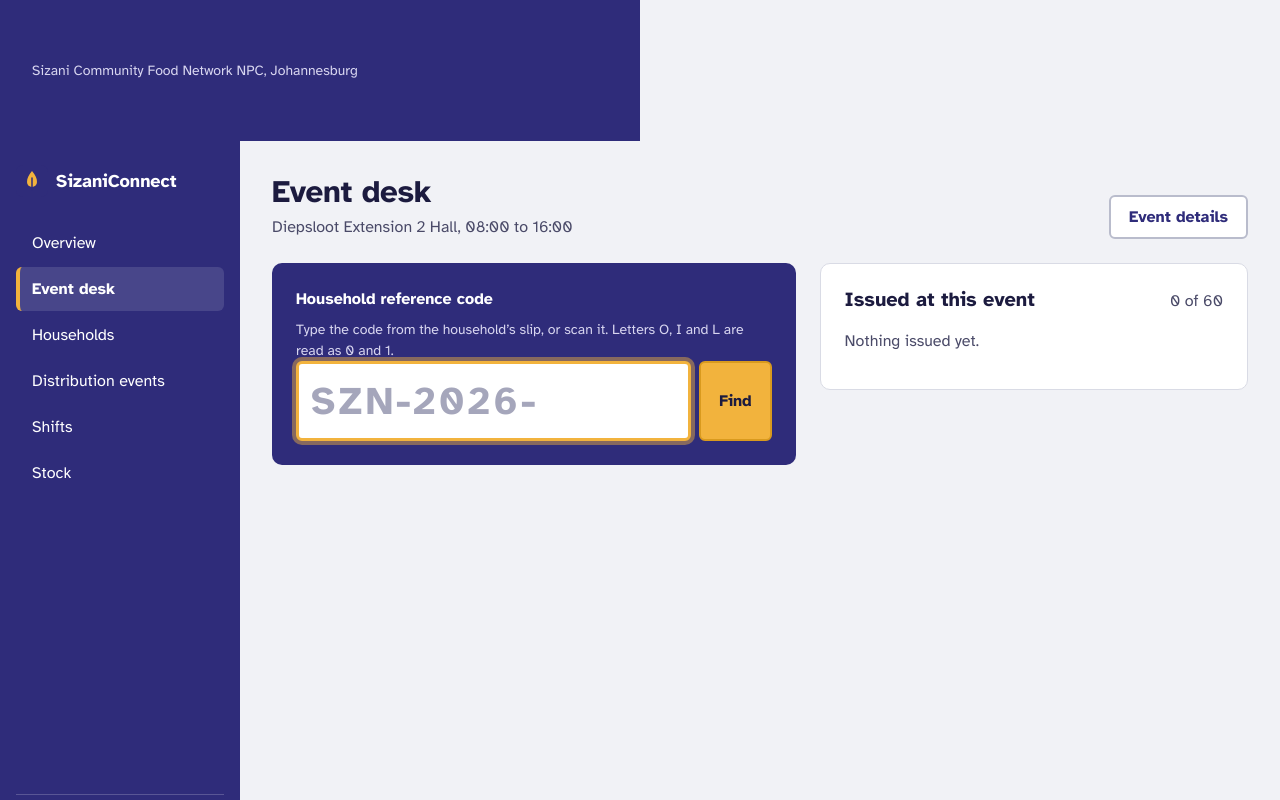
Test: event desk › records an eligible household and shows what to hand over
(page scrolled)
Type "SZN-2026-ABCDEF" into the field labelled "Household reference code" at {"x": 494, "y": 401}, box x1=296 y1=360 x2=691 y2=441
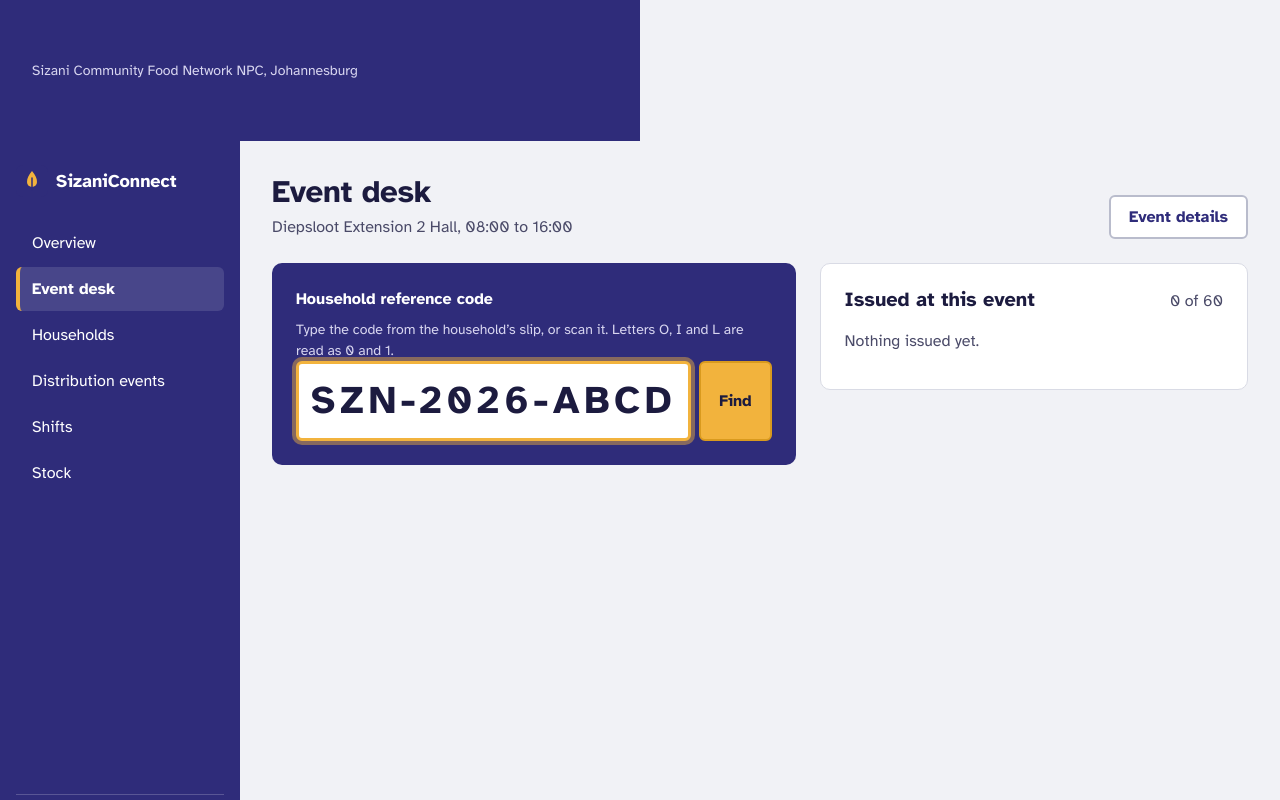
Click the button "Find" at {"x": 735, "y": 401}, box x1=699 y1=360 x2=772 y2=441
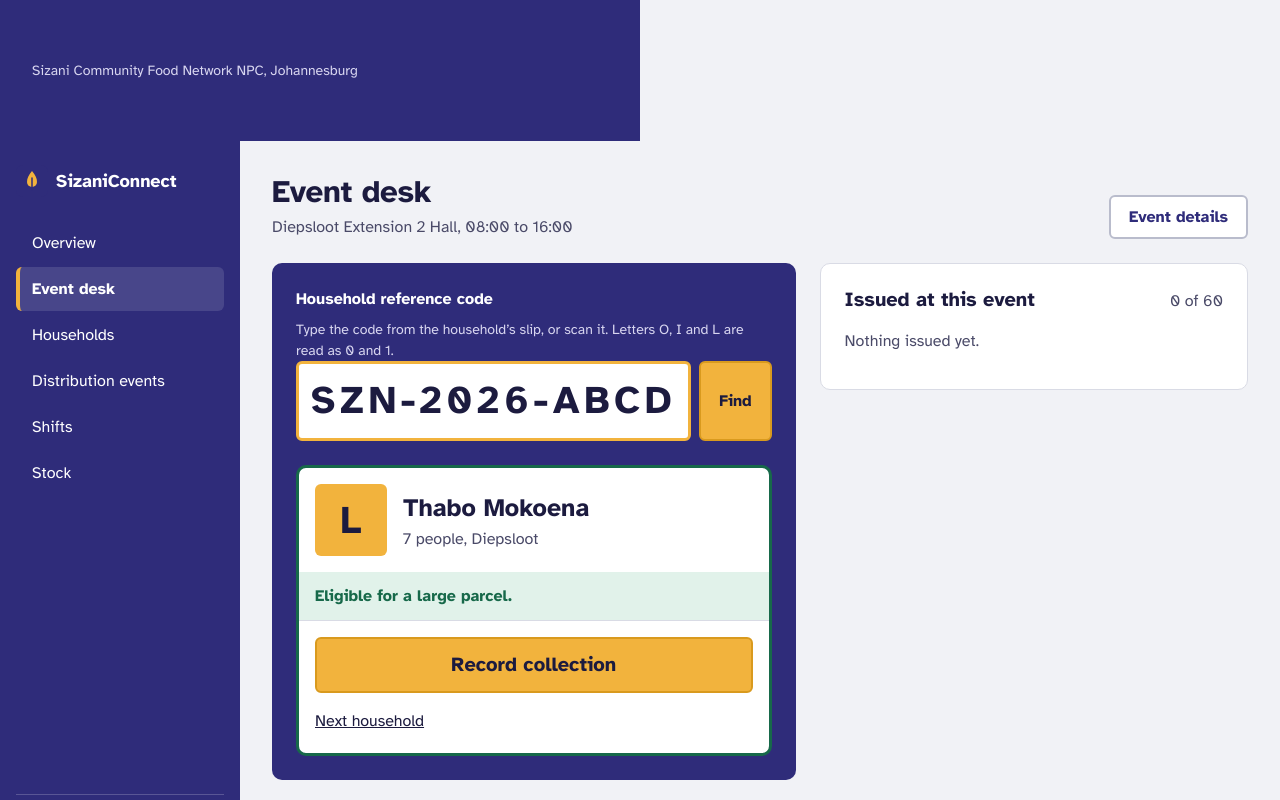
Click the button "Record collection" at {"x": 534, "y": 665}, box x1=315 y1=637 x2=753 y2=693
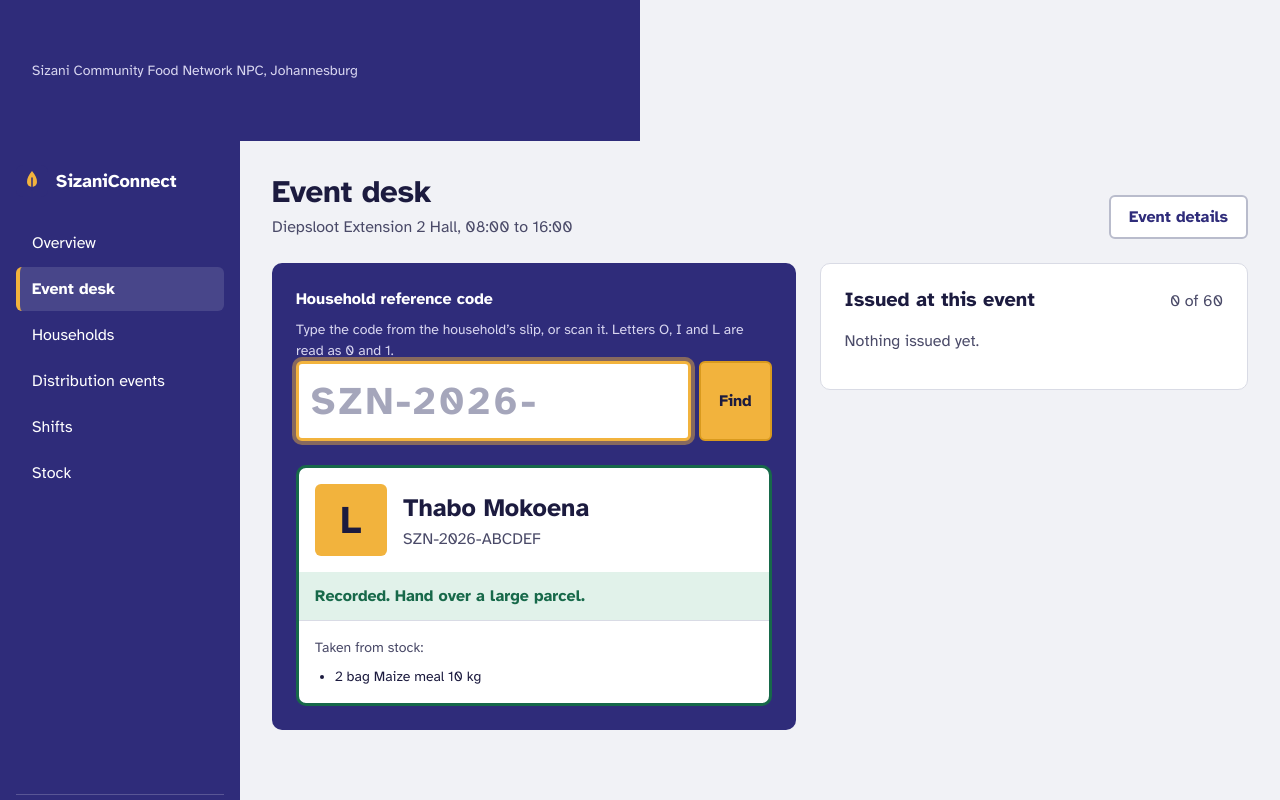
Expected: the text "Recorded. Hand over a large parcel." is shown, x1=299 y1=572 x2=769 y2=620
Expected: the list item "2 bag Maize meal 10 kg" is shown, x1=335 y1=668 x2=481 y2=685
